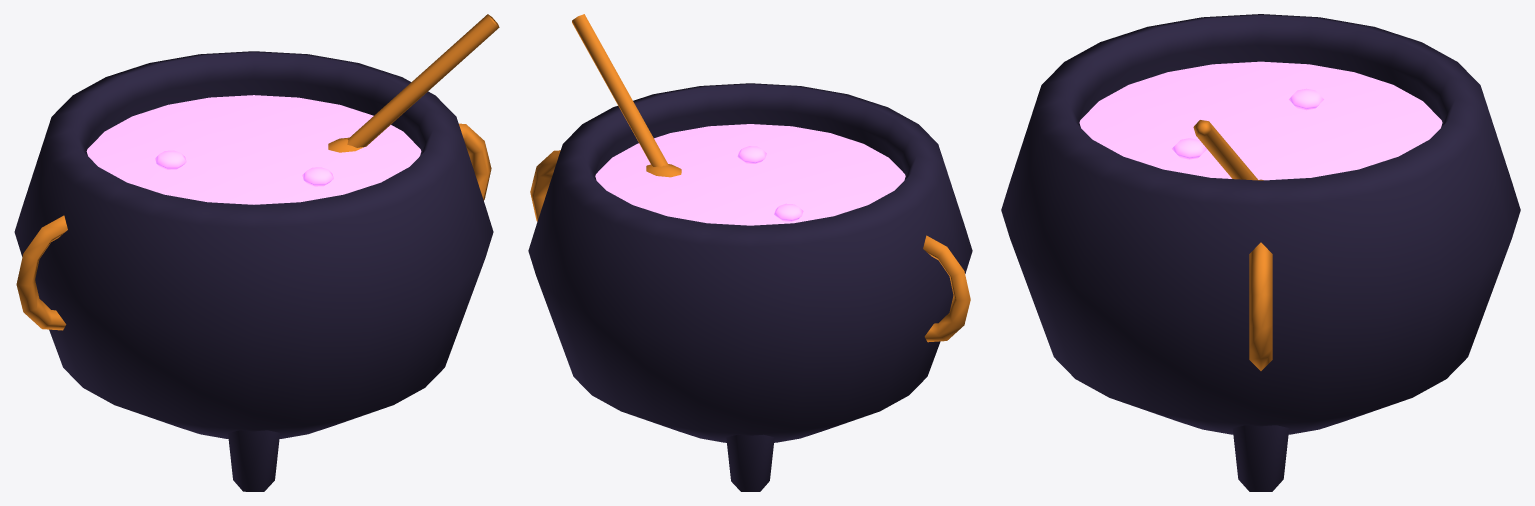
File: cauldron.glb
3 renders of one model, left to right at view 1: azimuth 30°, elevation 25°; view 2: azimuth 150°, elevation 25°; view 3: azimuth 270°, elevation 25°, orthographic. The views are drawn at different scales.
Size of the model in its own units: 0.916 by 0.6976 by 0.8.
